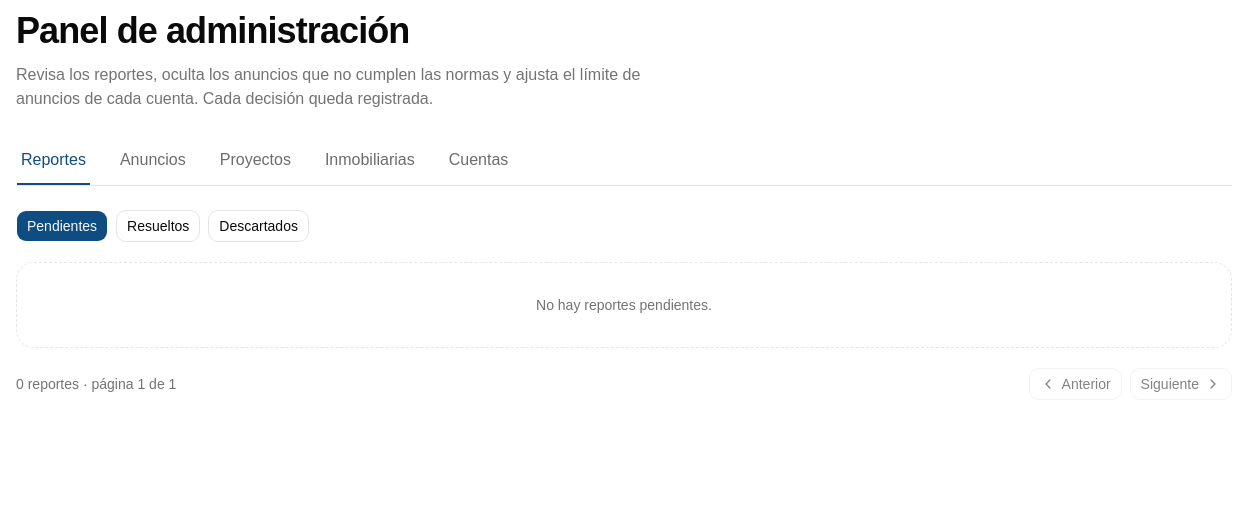
Test: AdminDashboardPage › en Proyectos un borrador de la inmobiliaria no se publica desde el panel
Click the tab "Proyectos".
click(255, 164)  # box [215,143,296,185]
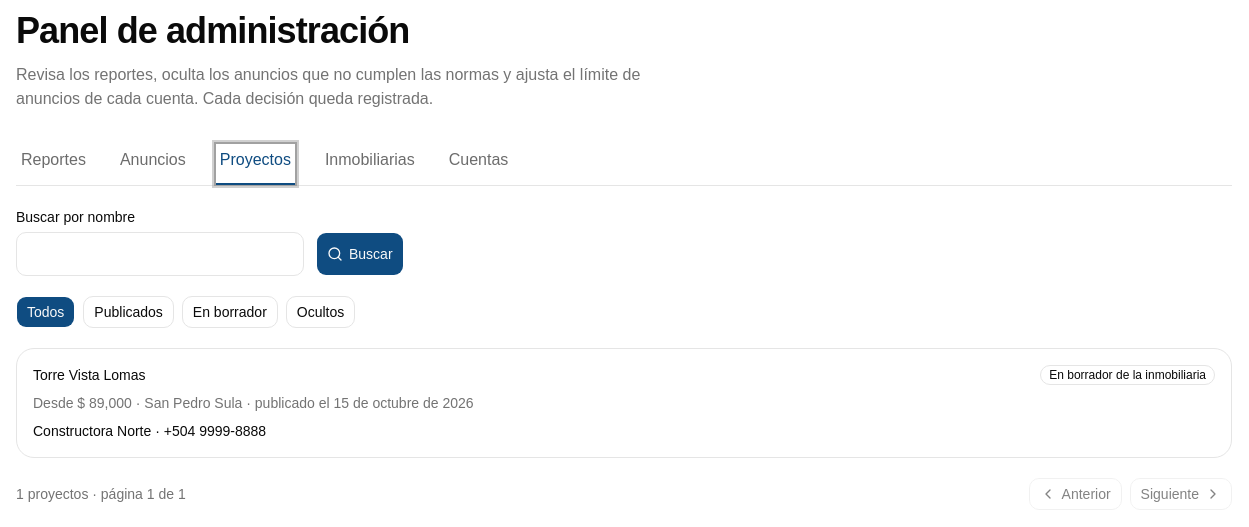
Now the text "En borrador de la inmobiliaria" is shown, box [1040,365,1215,385]
